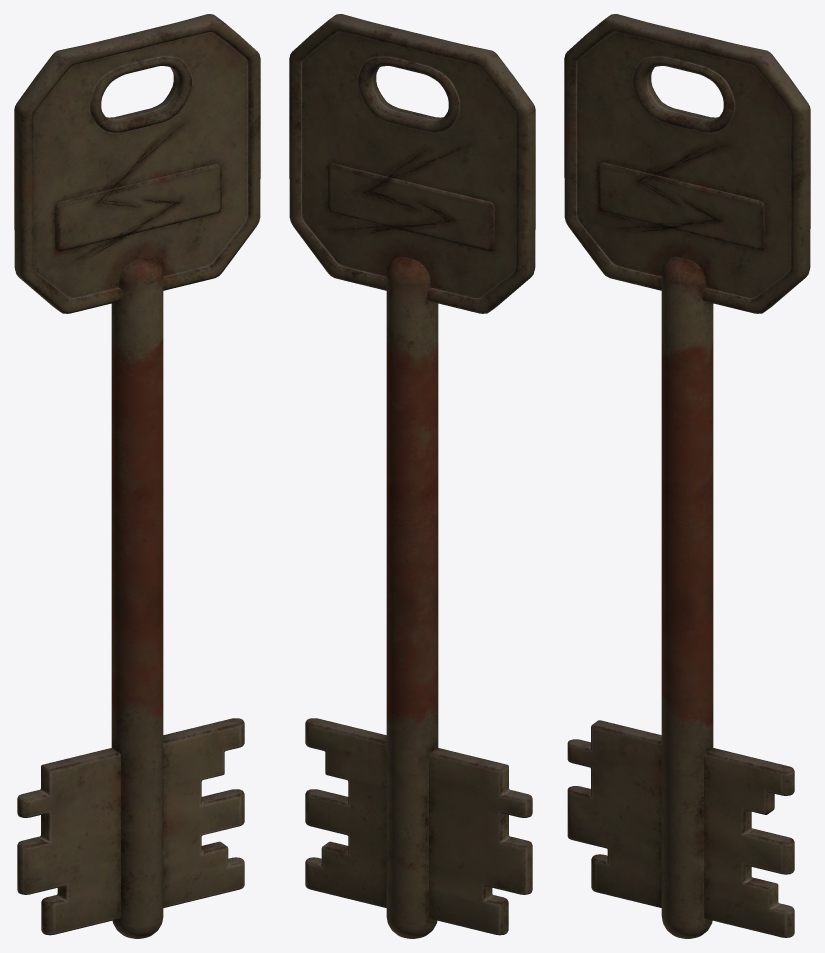
Rendered from the_key_of_the_sectarians.glb.
3 views of the same model, side by side, from view 1: azimuth 30°, elevation 25°; view 2: azimuth 150°, elevation 25°; view 3: azimuth 330°, elevation 25° (orthographic).
Bounding box in the file's own units: 0.0225 × 0.0811 × 0.00422.
1 material, 1 textured.
